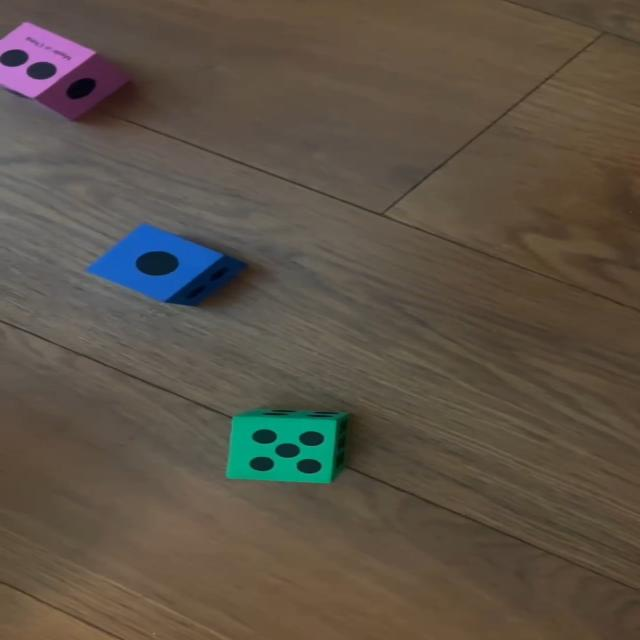blue_block: (86, 221, 248, 305)
